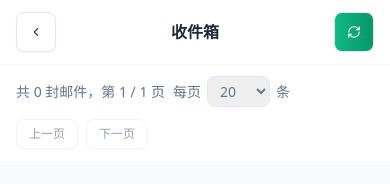
Test case: MailListPage › 刷新后展示新邮件数提示
Click the button named "收取邮件" at (354, 32), box 334,12 -> 374,52
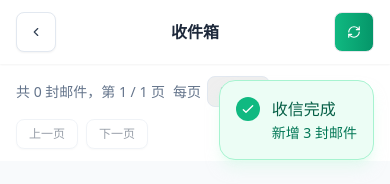
Result: the text "新增 3 封邮件" is shown at 272,123 -> 357,143
